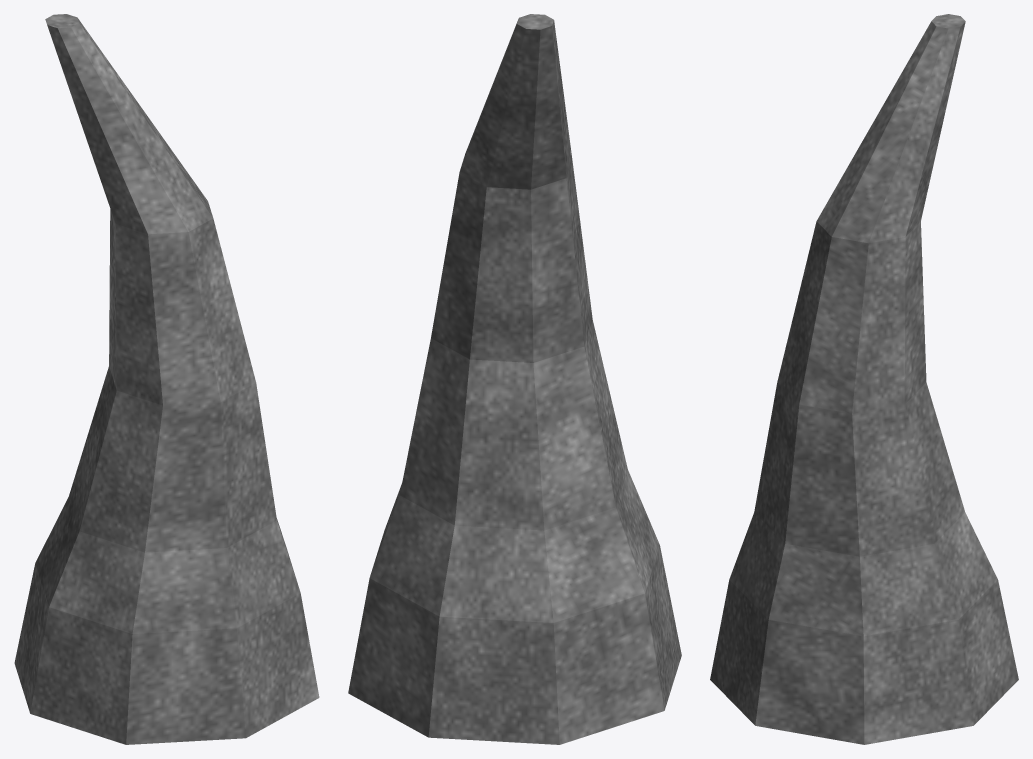
Rendered from spike individual var 5.fbx.
3 renders of one model, left to right at view 1: azimuth 30°, elevation 25°; view 2: azimuth 150°, elevation 25°; view 3: azimuth 270°, elevation 25°, orthographic. The views are drawn at different scales.
Parts seen in each view (by area): view 1: spike individual var 5; view 2: spike individual var 5; view 3: spike individual var 5.
Boxes of the visible parts, x1,y1,x2,y2 form: spike individual var 5: (14, 14, 319, 744); spike individual var 5: (348, 14, 681, 744); spike individual var 5: (710, 14, 1018, 744).
Bounding box in the file's own units: 231 × 519 × 231.
